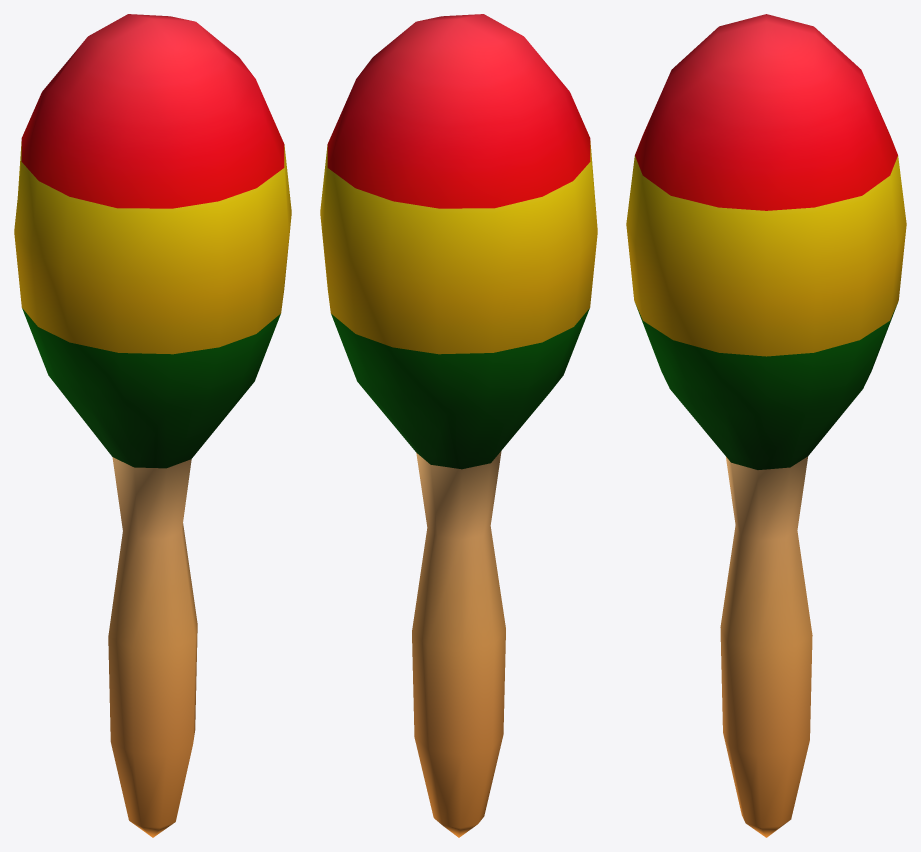
The model's file is marakas.fbx.
3 views of the same model, side by side, from view 1: azimuth 30°, elevation 25°; view 2: azimuth 150°, elevation 25°; view 3: azimuth 270°, elevation 25° (orthographic).
Parts seen in each view (by area): view 1: marakas; view 2: marakas; view 3: marakas.
Part boxes in pixels (<box>): marakas: <box>14,14,291,837</box>; marakas: <box>320,14,597,837</box>; marakas: <box>626,14,906,837</box>.
Size of the model in its own units: 8.1 by 26.01 by 8.1.
